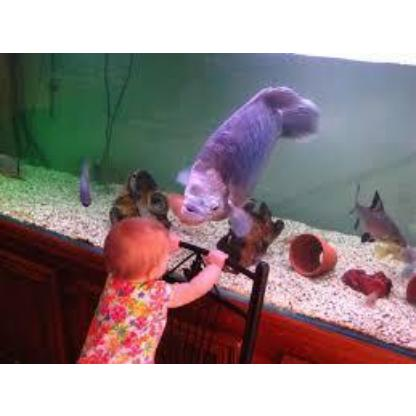gurame: (175, 86, 321, 230)
